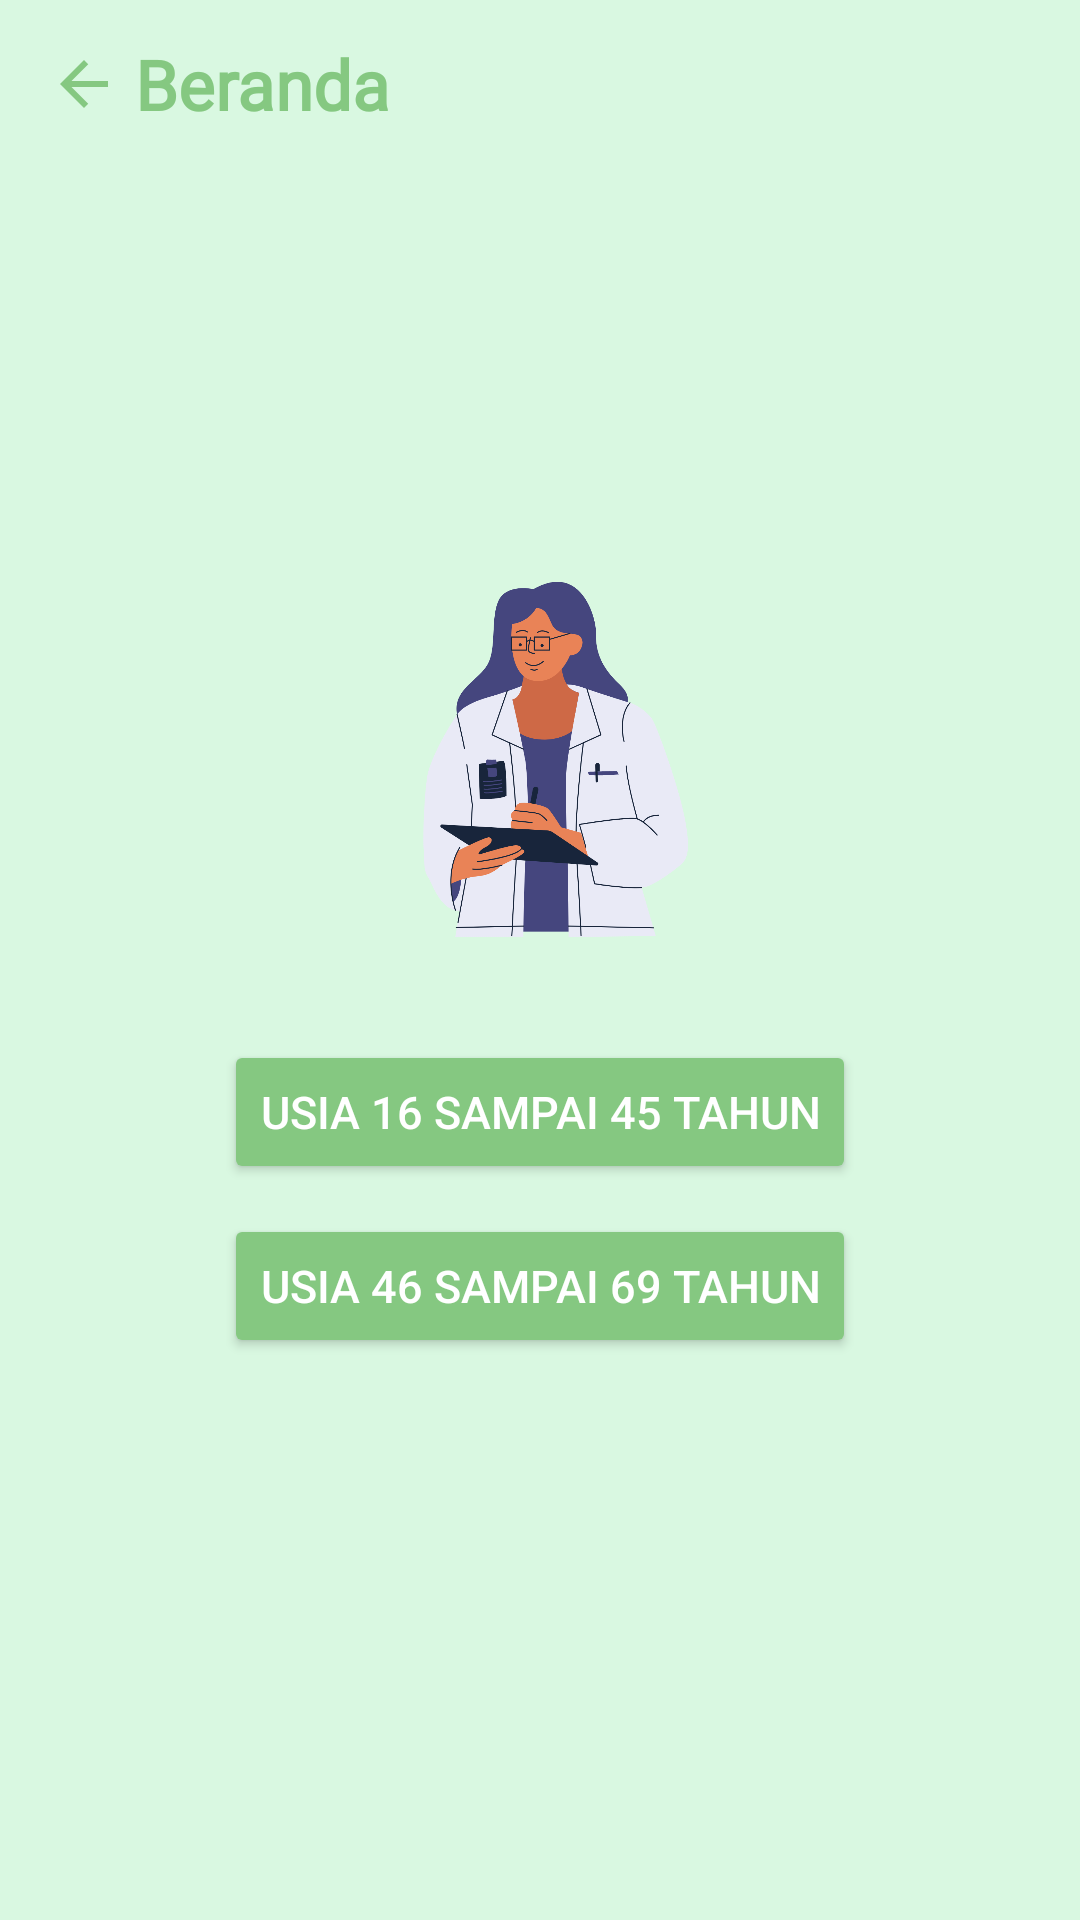

Screen size 1080 x 1920. Icon name, then its box in pixels as Rect(x1, y1, x2, y2):
back: Rect(60, 60, 108, 108)
dokter bertanya ilust: Rect(423, 582, 688, 937)
